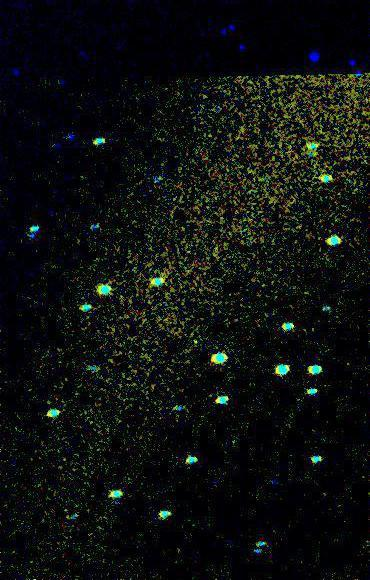star: (177, 323, 207, 353)
